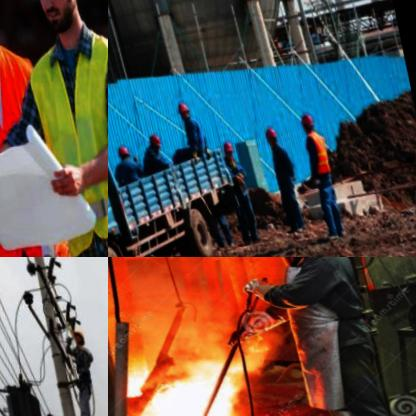helmet: (7, 0, 98, 46), (262, 117, 279, 146), (144, 126, 163, 150), (71, 321, 89, 346), (175, 94, 192, 118), (298, 104, 315, 127), (220, 131, 235, 156), (116, 140, 130, 159)
